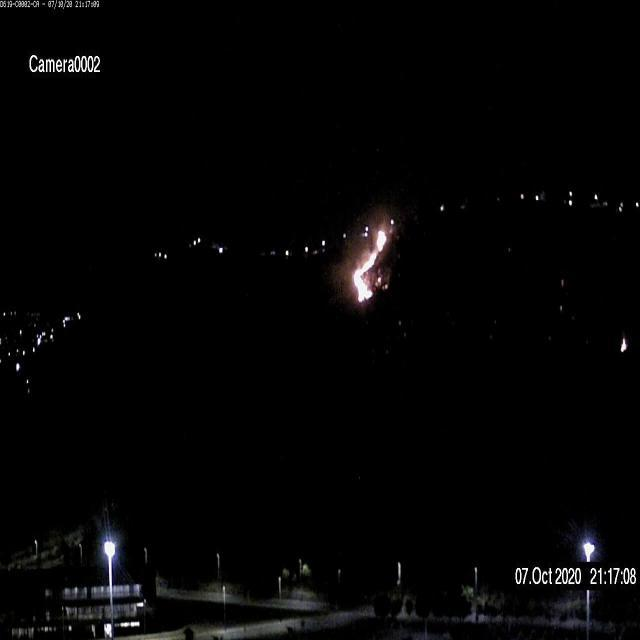Fire: (352, 218, 392, 304)
